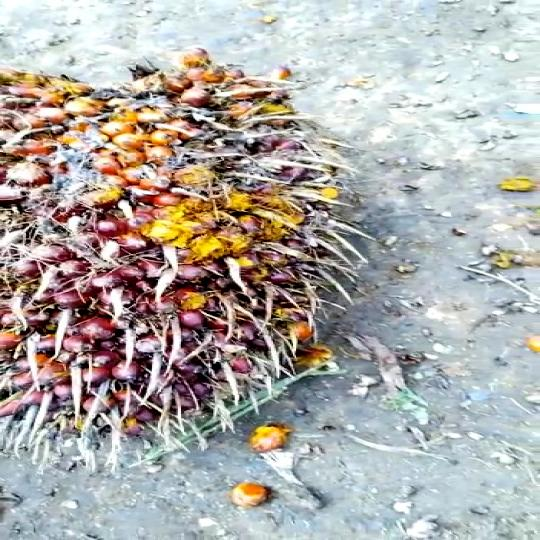masak: (0, 49, 401, 453)
